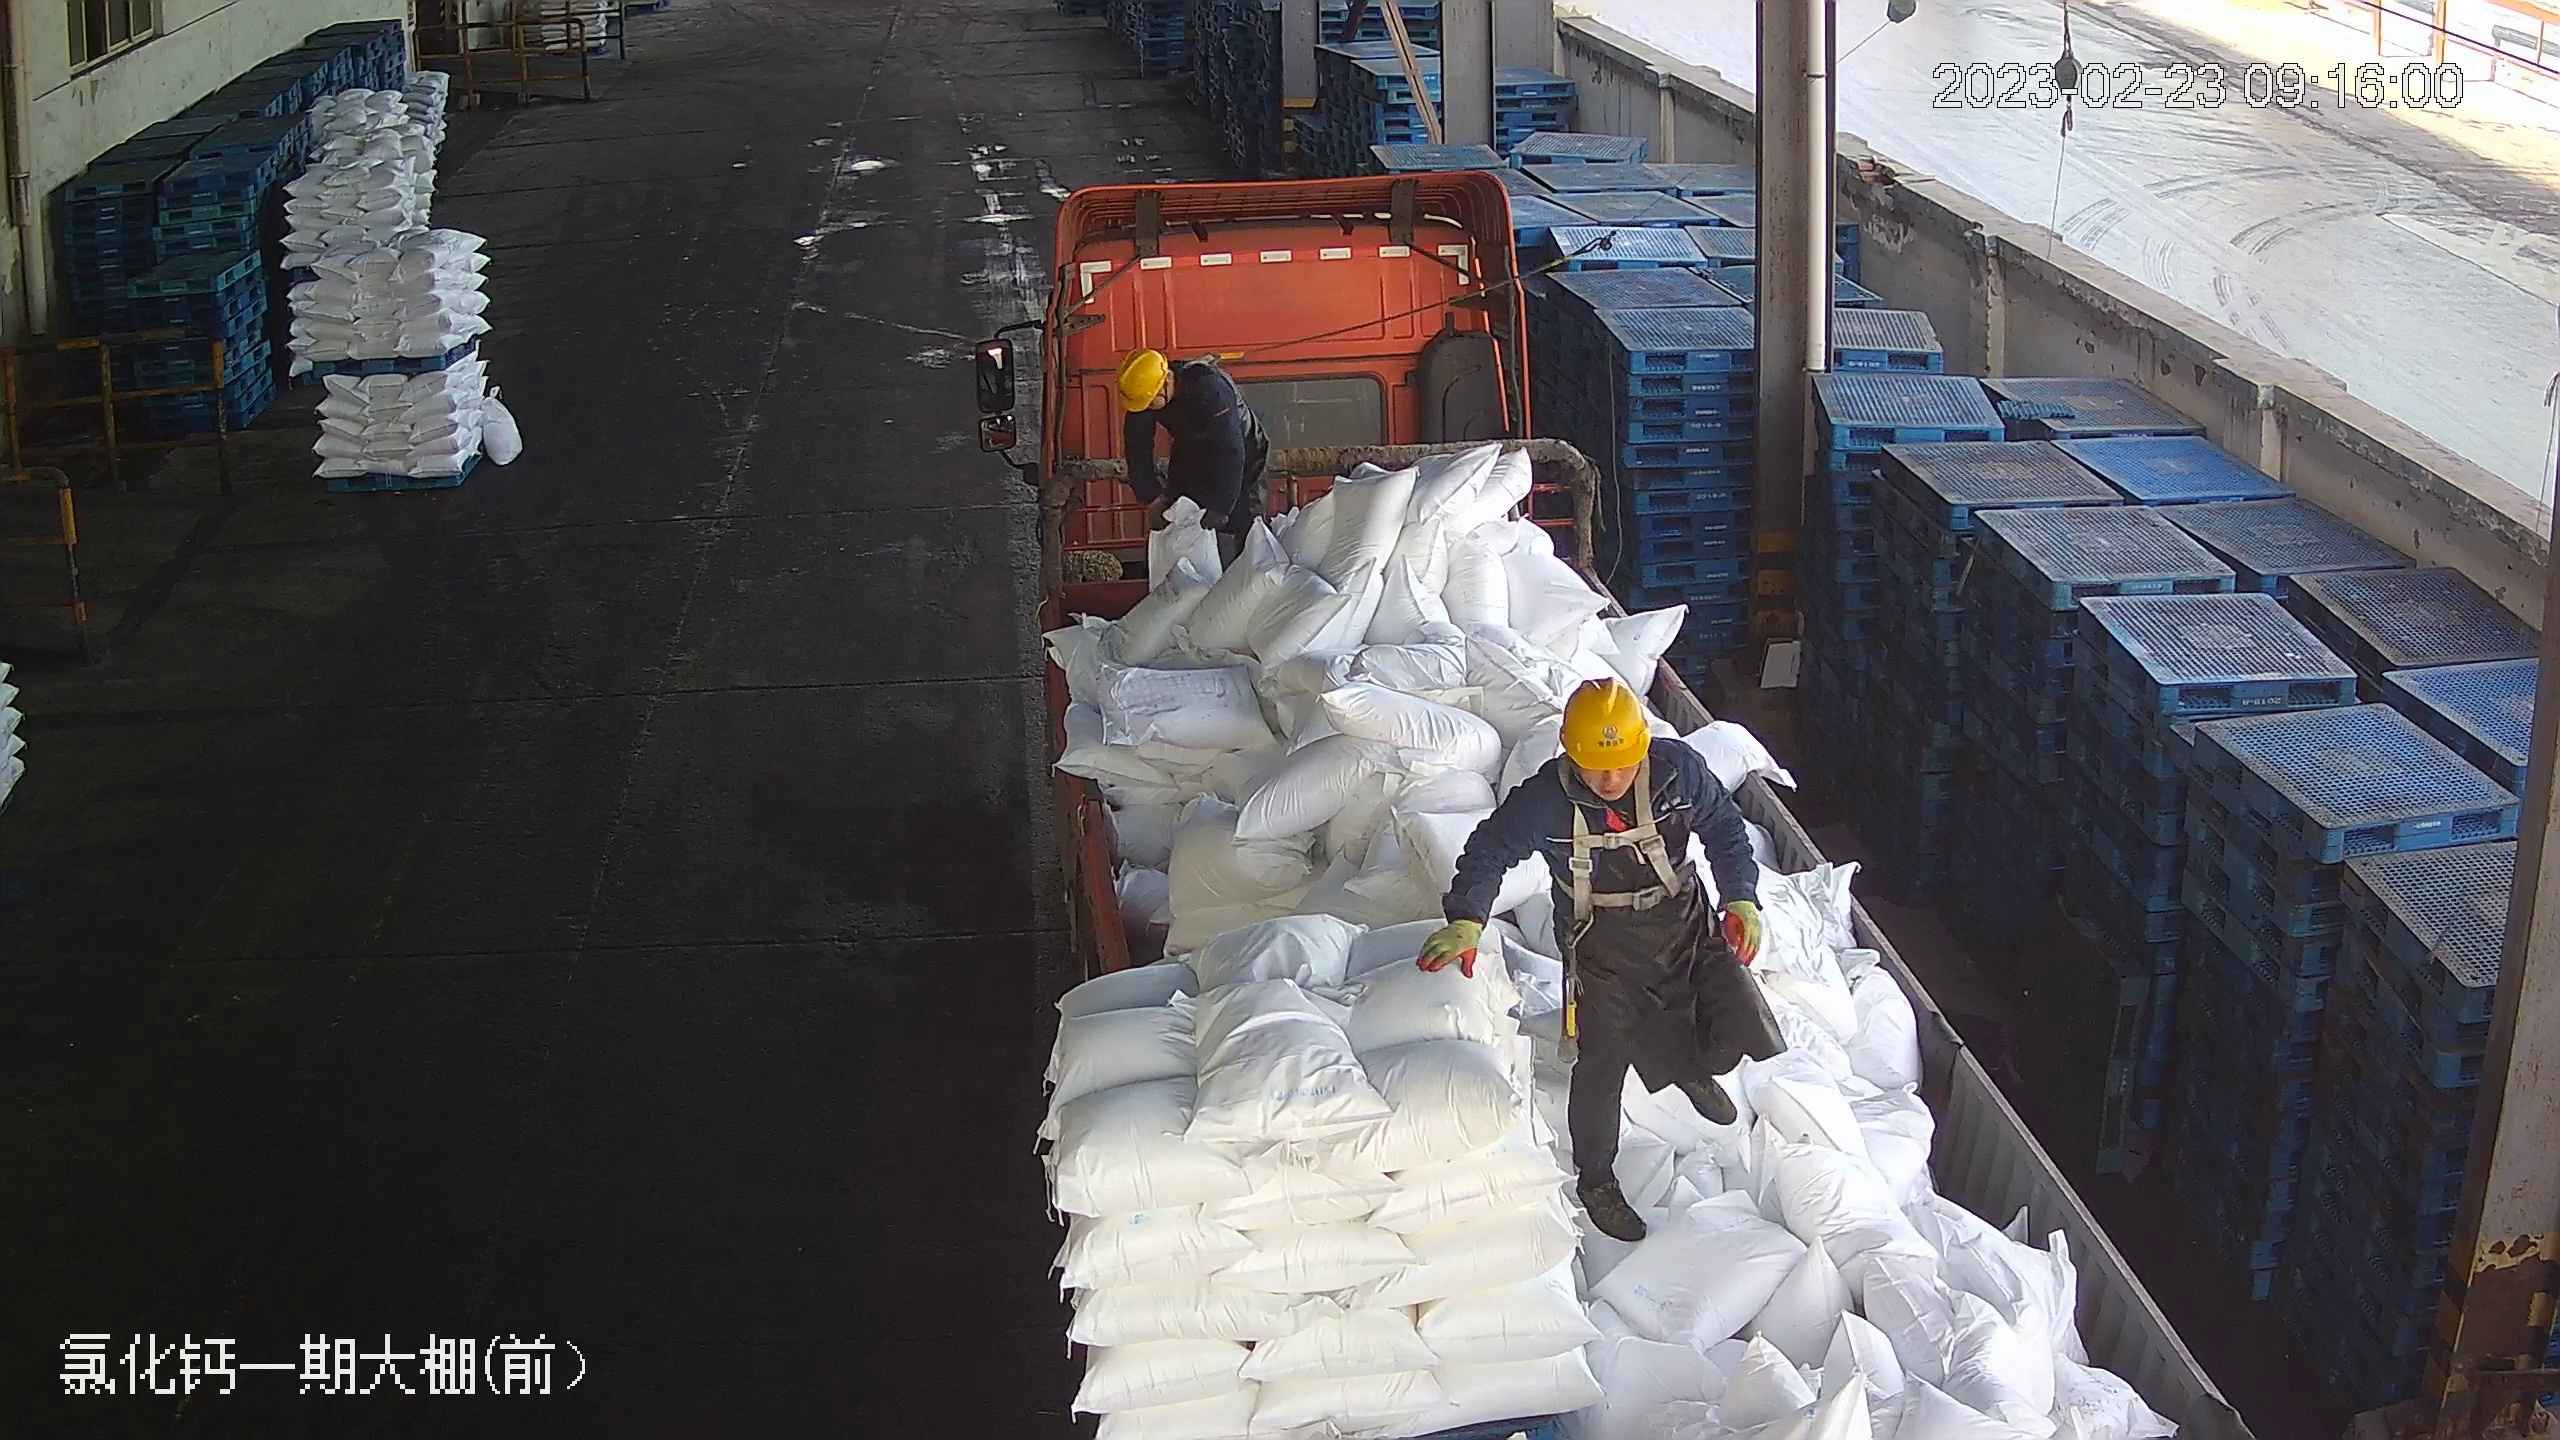belt: (1552, 767, 1687, 911), (1172, 345, 1256, 410)
head: (1505, 678, 1718, 855), (1114, 345, 1240, 441)
helmet: (1558, 675, 1650, 773), (1114, 347, 1169, 412)
people: (1426, 674, 1782, 1247), (1113, 343, 1274, 576)
truck: (970, 161, 2267, 1423)
